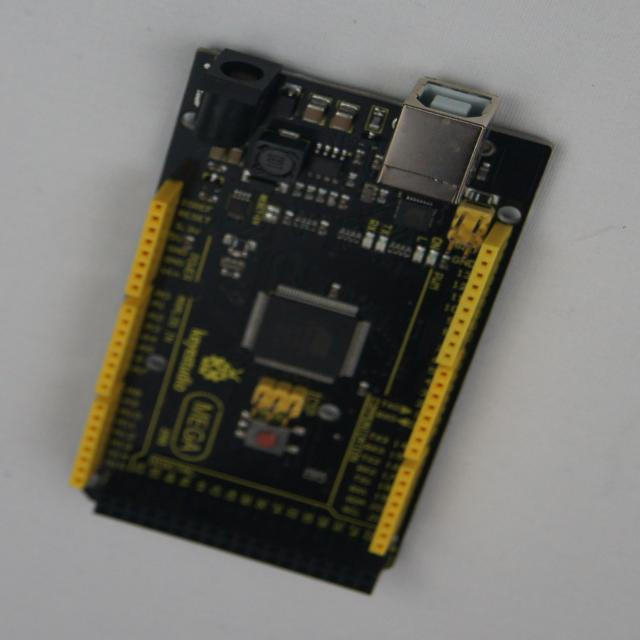Arduino Mega 2560 -Yellow-: (72, 49, 551, 594)
